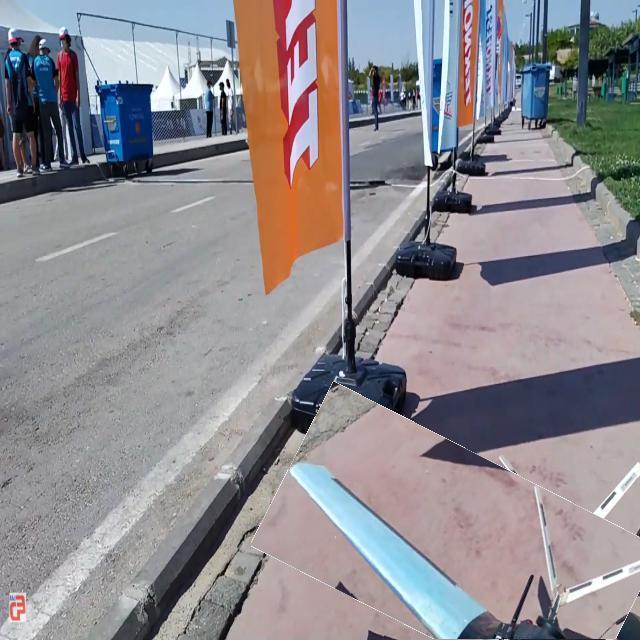UAV: (337, 392, 632, 632)
